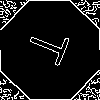T: (25, 25, 79, 70)
